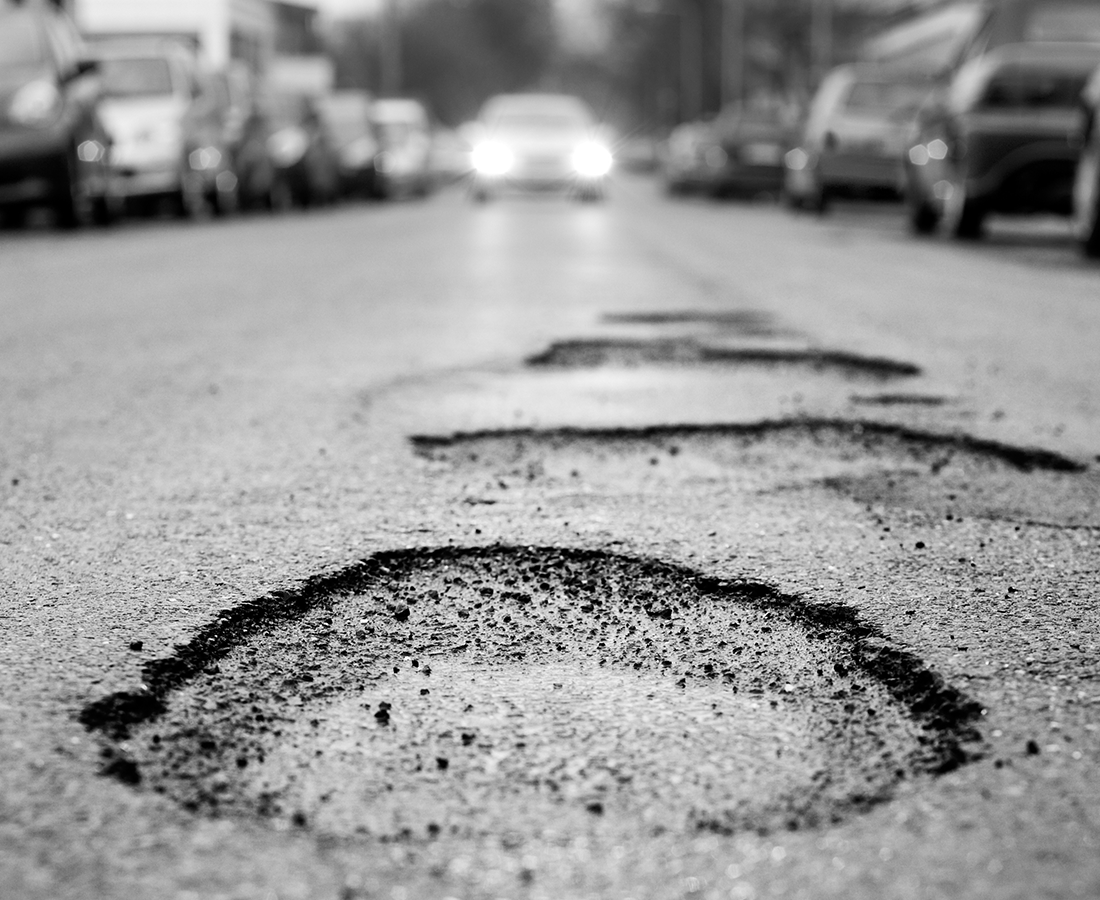pothole: (86, 521, 970, 850), (386, 382, 1073, 533), (515, 326, 917, 399), (583, 278, 793, 324)
